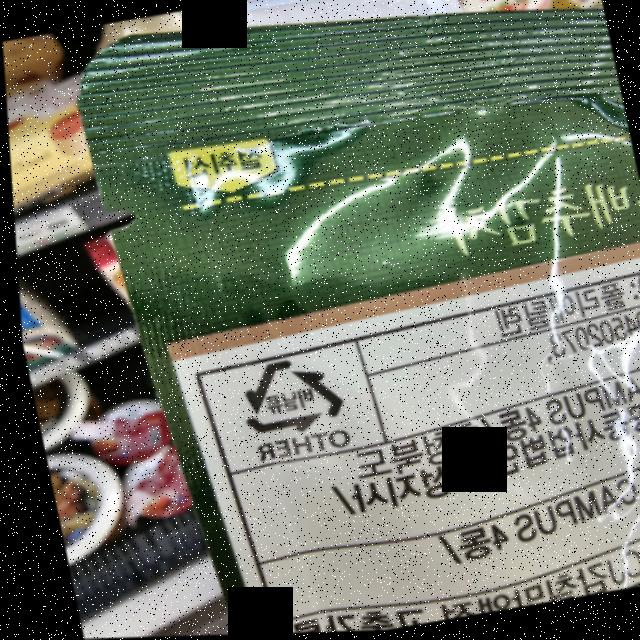Vinyl: (227, 352, 344, 443)
